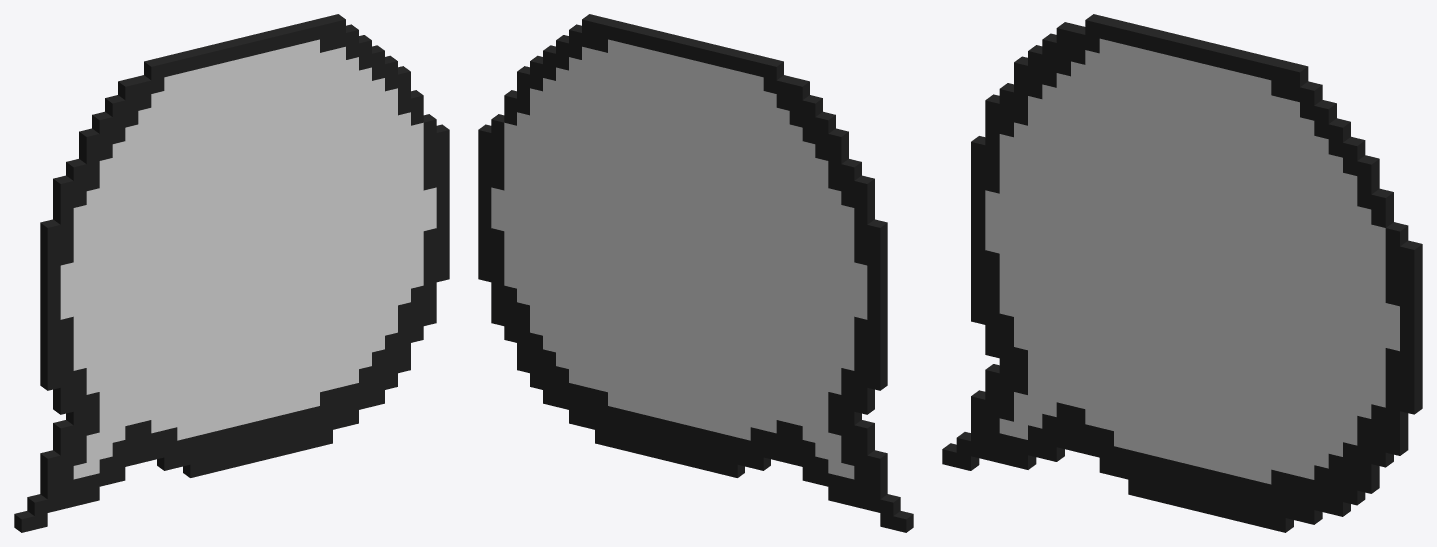
Rendered from speechBubble.obj.
The picture shows the model from 3 angles, left to right: view 1: azimuth 30°, elevation 25°; view 2: azimuth 150°, elevation 25°; view 3: azimuth 330°, elevation 25°; orthographic projection. The views are drawn at different scales.
Bounding box in the file's own units: 3.3 × 3.2 × 0.1.
1 material, 1 textured.
